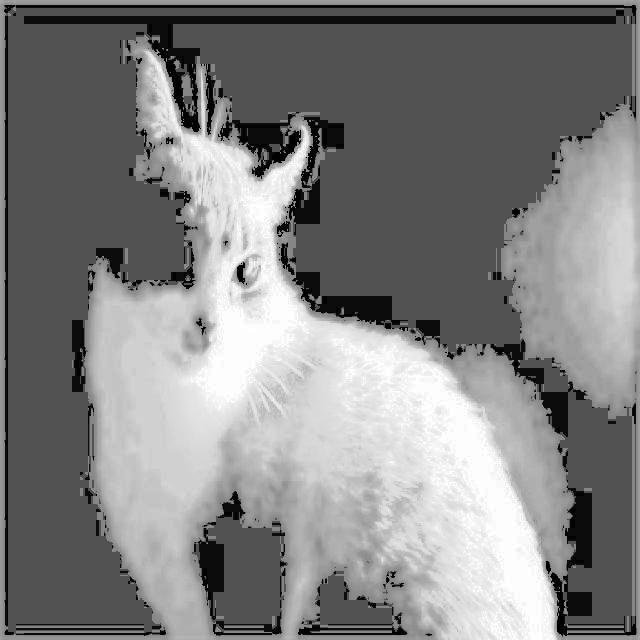Cat: (83, 43, 560, 640)
